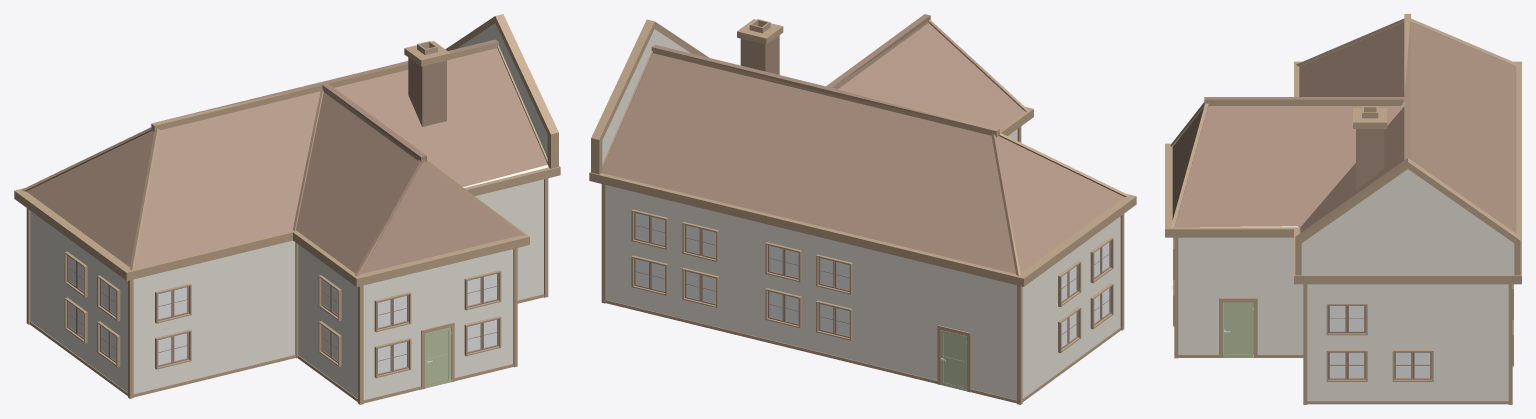
File: 932_house.glb
The picture shows the model from 3 angles, left to right: view 1: azimuth 30°, elevation 25°; view 2: azimuth 150°, elevation 25°; view 3: azimuth 270°, elevation 25°; orthographic projection.
Visible parts, largest first — view 1: Body; view 2: Body; view 3: Body.
Boxes of the visible parts, bbox=[...] form: Body: bbox=[14, 14, 560, 404]; Body: bbox=[589, 14, 1136, 404]; Body: bbox=[1165, 14, 1521, 404].
Size of the model in its own units: 14.83 by 8.12 by 10.43.
